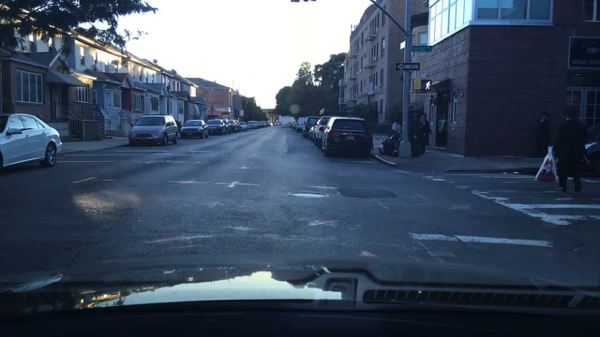car: (0, 112, 63, 171), (553, 123, 599, 178), (318, 115, 374, 159), (128, 114, 180, 147), (313, 109, 353, 148), (179, 119, 210, 139), (300, 116, 320, 138), (205, 119, 227, 136), (307, 119, 319, 142), (294, 117, 308, 133), (221, 119, 232, 135), (228, 119, 239, 133), (246, 121, 258, 130), (239, 122, 248, 132), (260, 121, 268, 128), (235, 120, 240, 130), (257, 121, 263, 128), (266, 122, 273, 127), (291, 121, 295, 129), (286, 121, 291, 126), (274, 122, 280, 126), (294, 122, 297, 130)
person: (551, 105, 587, 193), (414, 111, 432, 157), (536, 110, 551, 158), (437, 117, 443, 148), (442, 114, 447, 148), (391, 120, 401, 133)
traffic light: (418, 79, 433, 92), (412, 79, 418, 91)
traffic sign: (394, 62, 420, 71), (410, 45, 432, 53), (399, 42, 405, 49)
